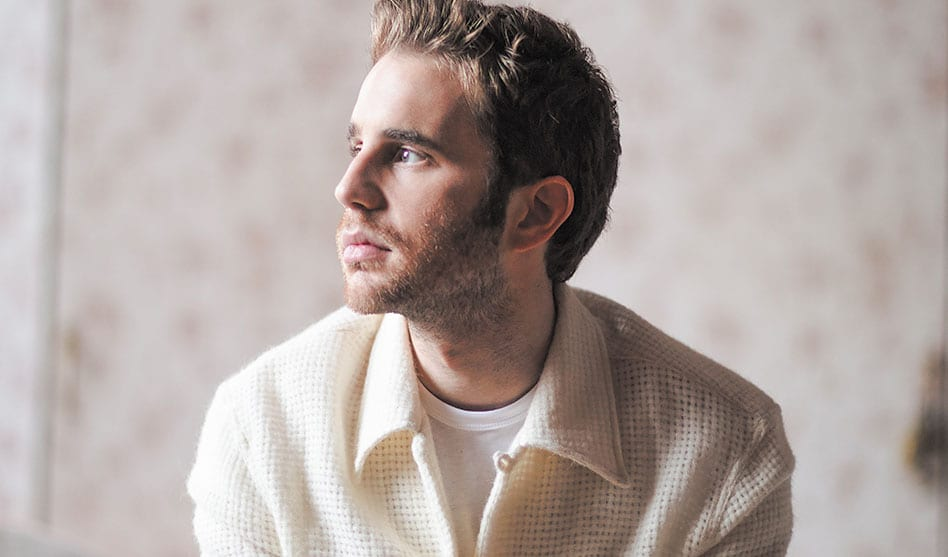bare: (333, 175, 480, 321)
